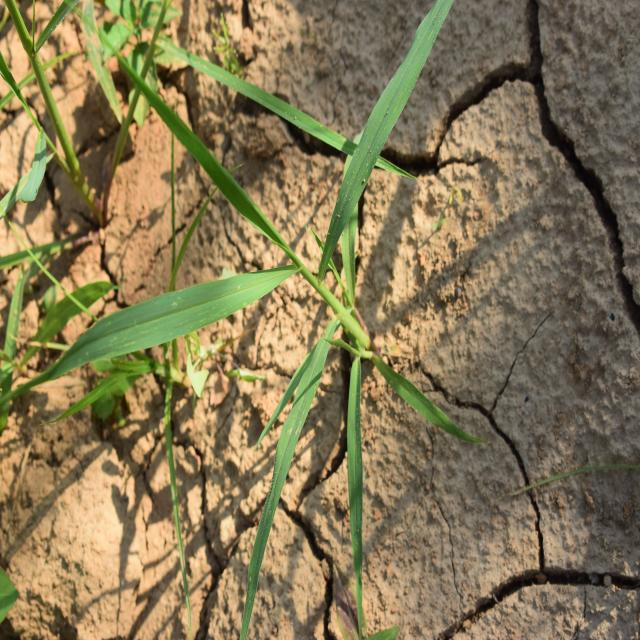green_foxtail: (110, 88, 450, 526)
